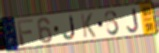6: (36, 16, 53, 45), (105, 10, 121, 37)
F: (16, 18, 35, 47)
J: (62, 14, 77, 42), (126, 8, 140, 35)
K: (79, 12, 98, 39)
